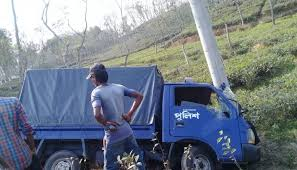policecar: (17, 64, 265, 170)
